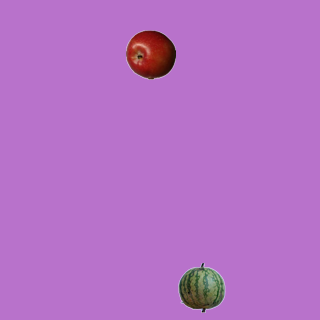Apple Braeburn: (125, 29, 175, 79)
Watermelon: (176, 262, 226, 312)
